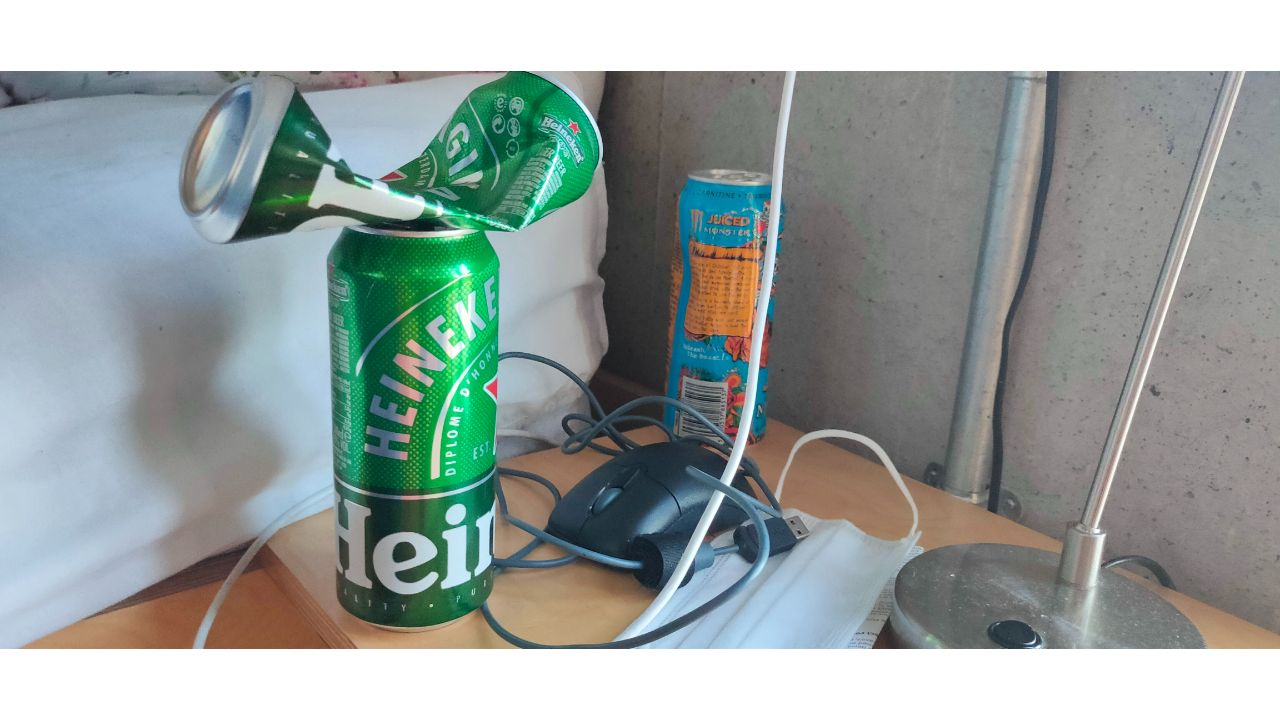Can: (181, 74, 607, 245), (324, 223, 502, 626), (661, 168, 784, 444)
